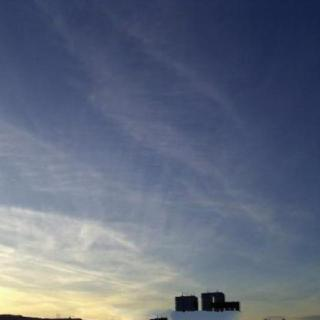Cirrus: (4, 0, 320, 312)
